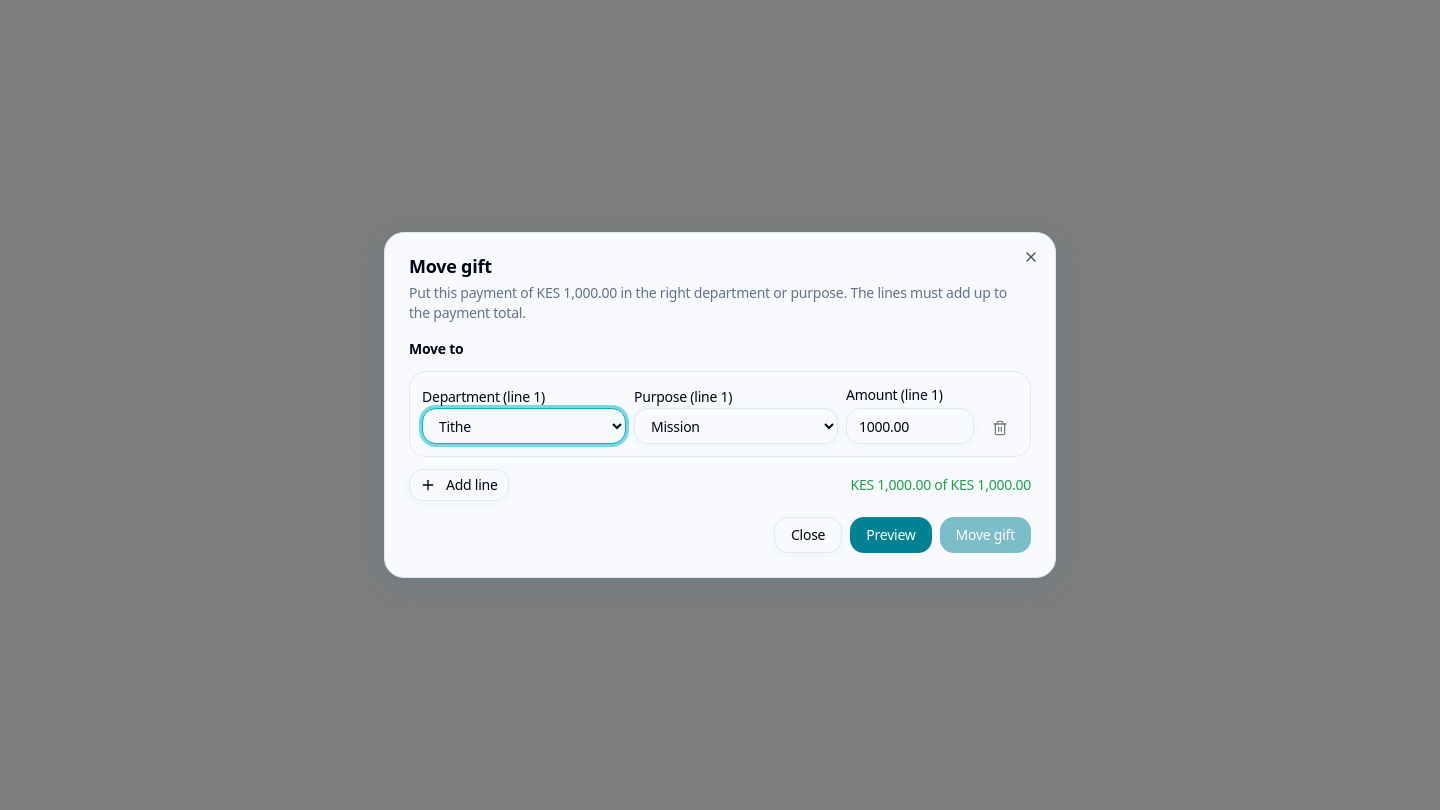
it: MoveGiftDialog › sends the purpose matched by name when the user kept it
The image size is (1440, 810).
Check: the dropdown labelled "Purpose (line 1)" shows "Mission", box [634, 408, 838, 444]
What coordinates should you click on to do the following:
click the button "Preview"
I would click on:
 (891, 535)
Its box is [850, 517, 932, 553].
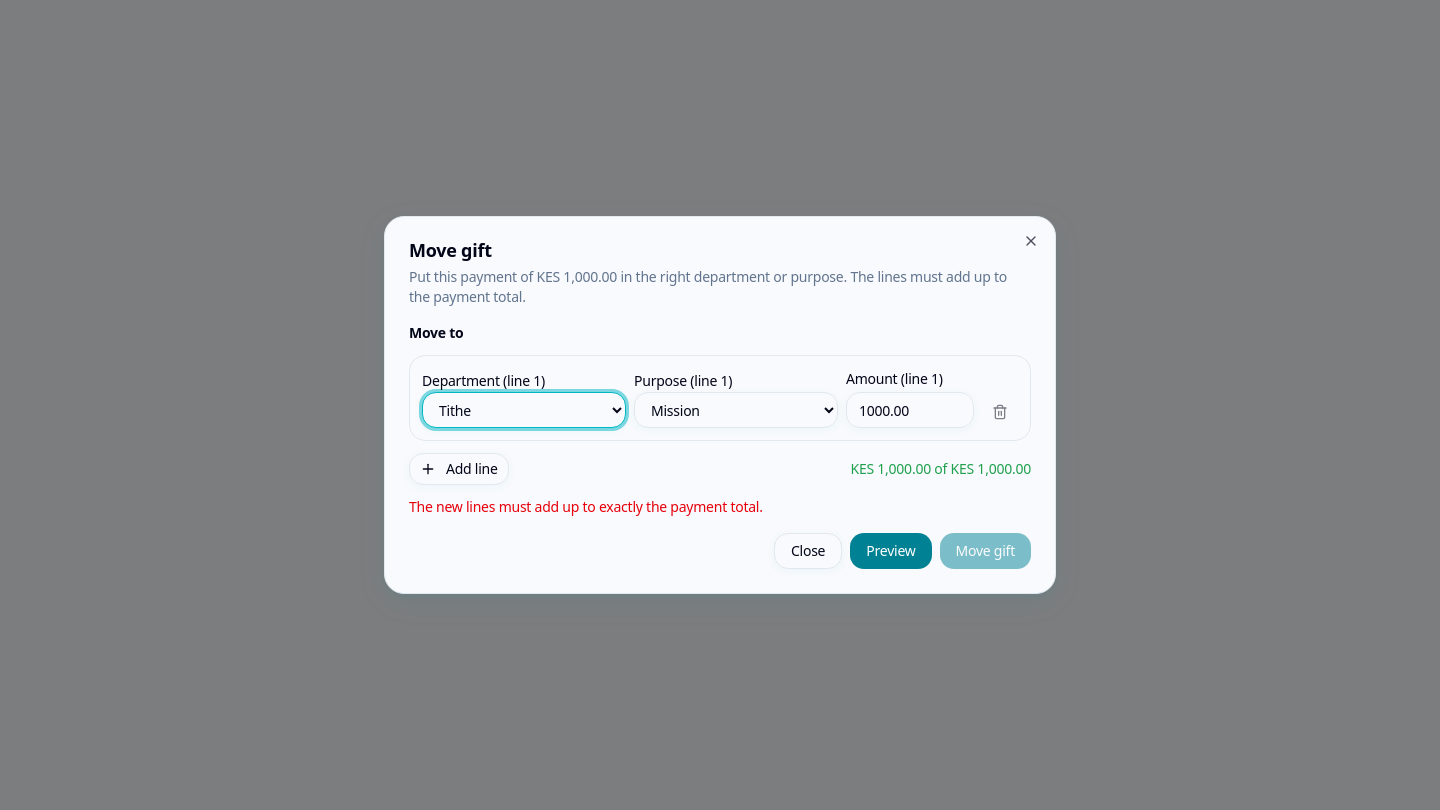
Check: the message shows "exactly the payment total", box [409, 497, 763, 516]
